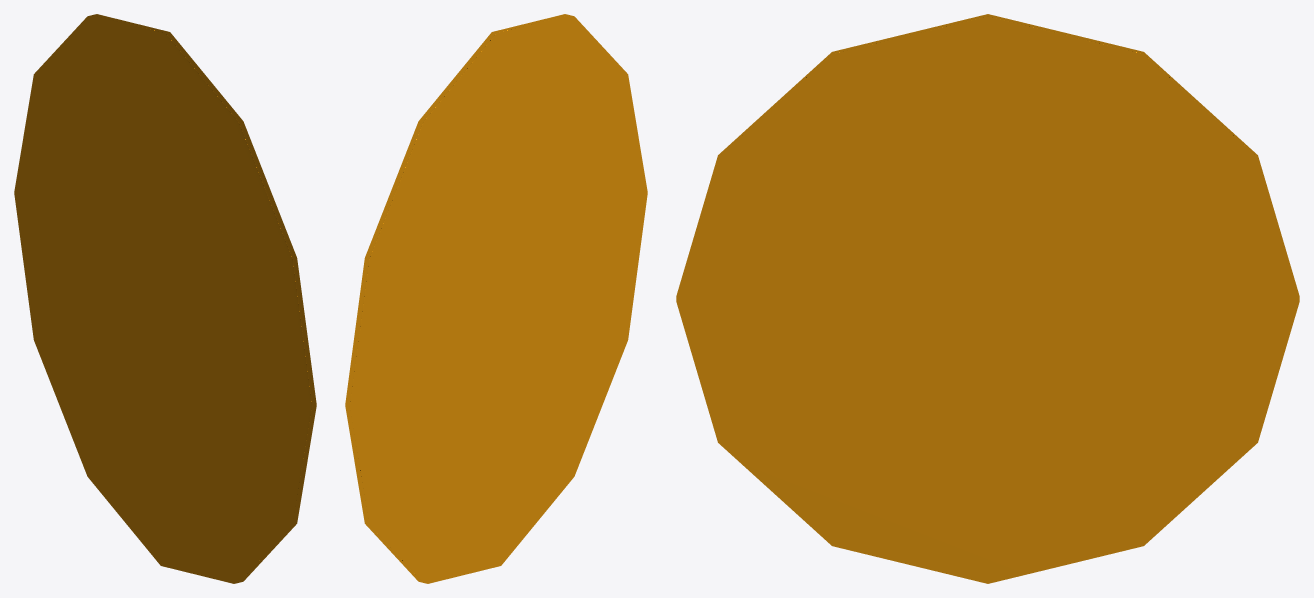
Rendered from Bar3.gltf.
3 views of the same model, side by side, from view 1: azimuth 30°, elevation 25°; view 2: azimuth 150°, elevation 25°; view 3: azimuth 270°, elevation 25° (orthographic). The views are drawn at different scales.
Visible parts, largest first — view 1: Cylinder.034; view 2: Cylinder.034; view 3: Cylinder.034.
Boxes of the visible parts, x1,y1,x2,y2 form: Cylinder.034: (14, 14, 316, 583); Cylinder.034: (345, 14, 647, 583); Cylinder.034: (676, 14, 1299, 583).
Bounding box in the file's own units: 8.04e-05 × 0.00435 × 0.00435.
